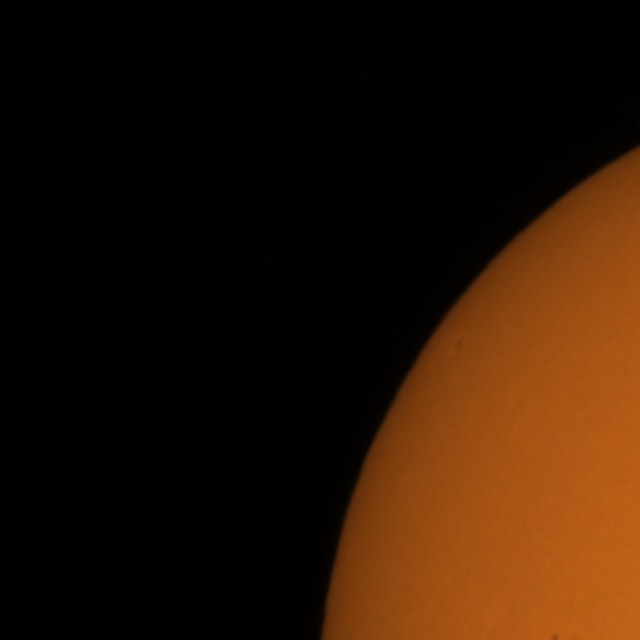sunspot: (453, 335, 464, 352), (547, 631, 562, 640)
